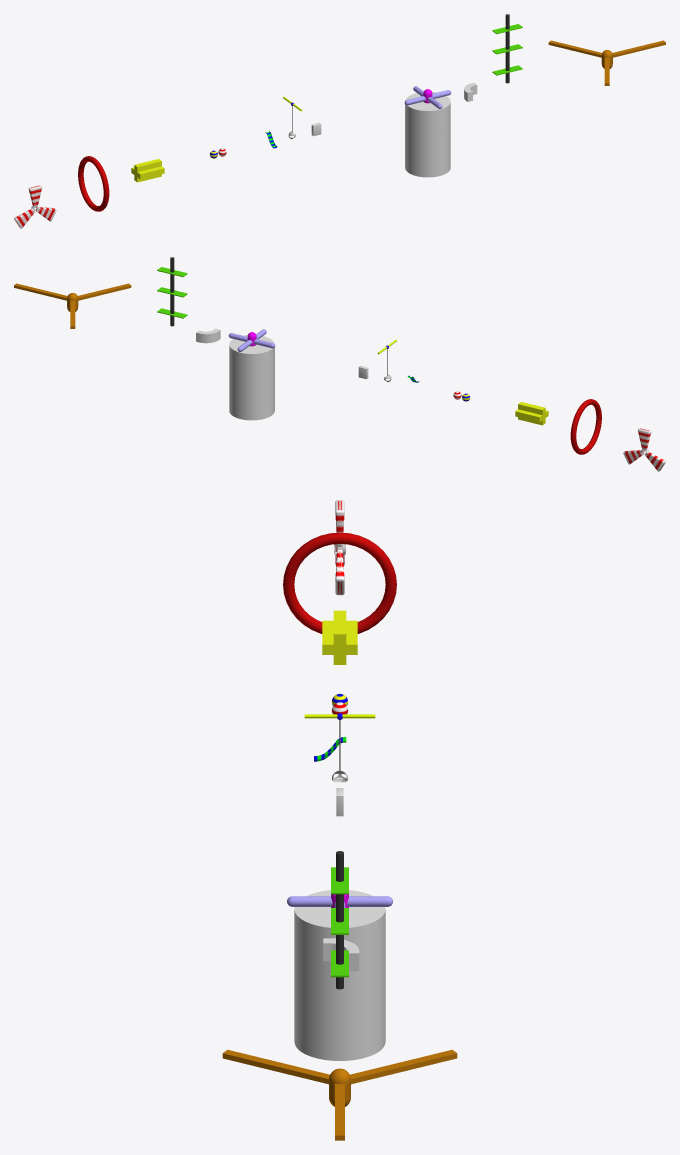
The model's file is obstacles general 1.fbx.
The picture shows the model from 3 angles, top to bottom: view 1: azimuth 30°, elevation 25°; view 2: azimuth 150°, elevation 25°; view 3: azimuth 270°, elevation 25°; orthographic projection. The views are drawn at different scales.
Visible parts, largest first — view 1: circular_platform, Torus, quad_rotator; view 2: circular_platform, Torus, quad_rotator; view 3: circular_platform, Torus, quad_rotator, Cube_2_2, Cube_3.
Boxes of the visible parts, bbox=[...] form: circular_platform: bbox=[405, 92, 450, 177]; Torus: bbox=[78, 156, 109, 211]; quad_rotator: bbox=[131, 159, 164, 182]; circular_platform: bbox=[229, 335, 274, 420]; Torus: bbox=[570, 399, 601, 454]; quad_rotator: bbox=[515, 402, 548, 425]; circular_platform: bbox=[294, 890, 385, 1060]; Torus: bbox=[283, 532, 396, 633]; quad_rotator: bbox=[322, 610, 357, 664]; Cube_2_2: bbox=[222, 1049, 329, 1084]; Cube_3: bbox=[350, 1049, 457, 1084].
Size of the model in its own units: 18292 by 3586 by 2861.
15 materials, 3 textured.
